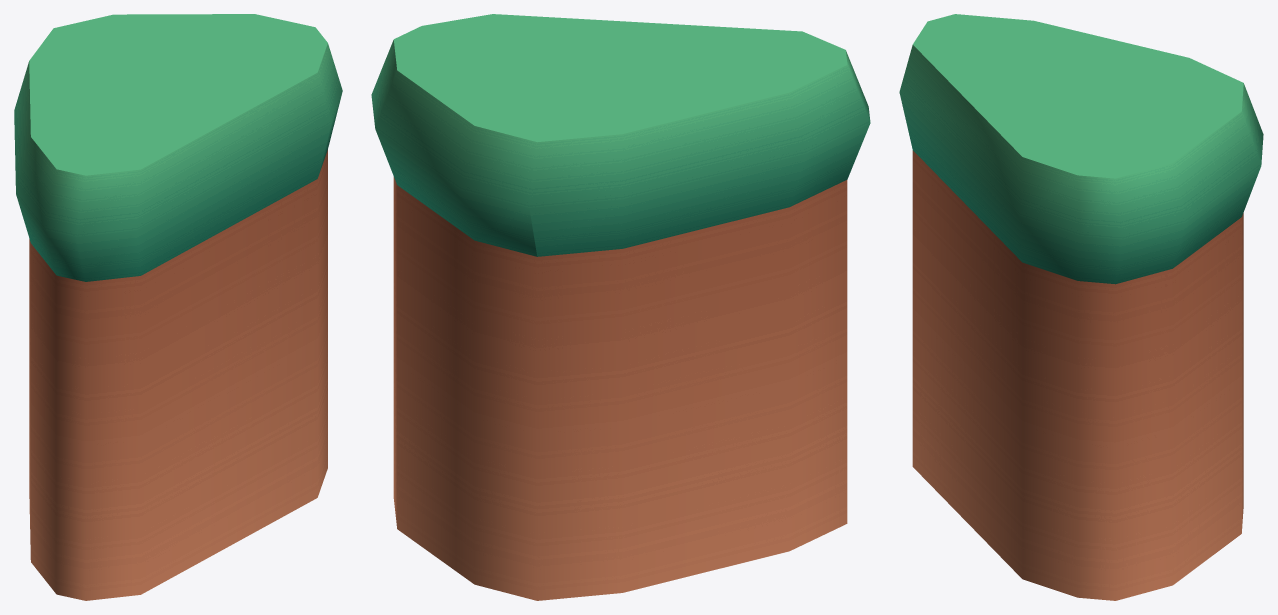
File: block-grass-corner.002_lev2.glb
3 renders of one model, left to right at view 1: azimuth 30°, elevation 25°; view 2: azimuth 150°, elevation 25°; view 3: azimuth 270°, elevation 25°, orthographic. The views are drawn at different scales.
Visible parts, largest first — view 1: block-grass-corner.002_lev2; view 2: block-grass-corner.002_lev2; view 3: block-grass-corner.002_lev2.
Boxes of the visible parts, bbox=[...] form: block-grass-corner.002_lev2: bbox=[14, 14, 342, 600]; block-grass-corner.002_lev2: bbox=[371, 14, 870, 600]; block-grass-corner.002_lev2: bbox=[899, 14, 1263, 600].
Bounding box in the file's own units: 4.16 × 4.52 × 3.53.
1 material, 1 textured.
